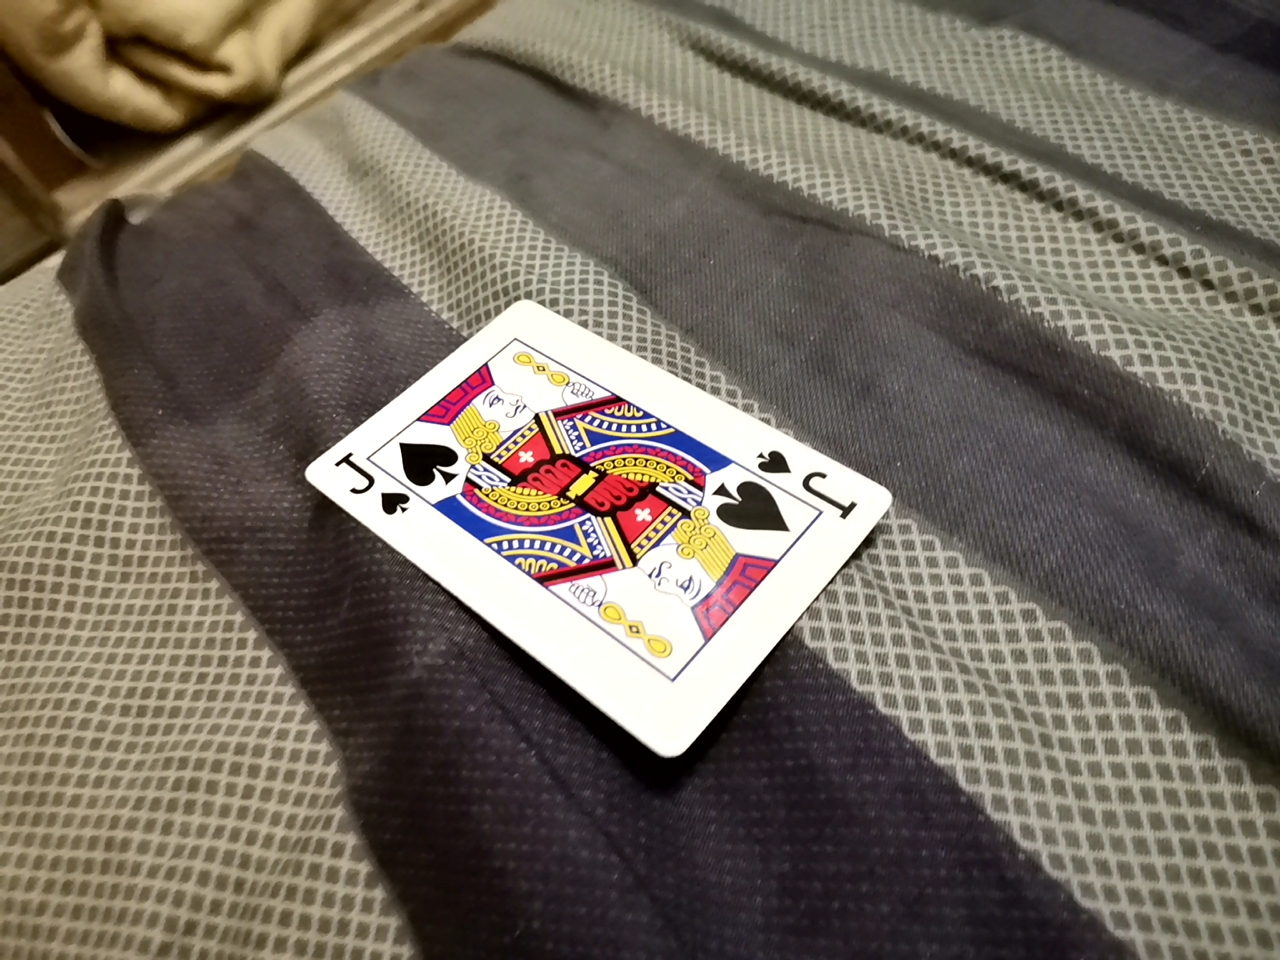ht j: (292, 308, 906, 759)
